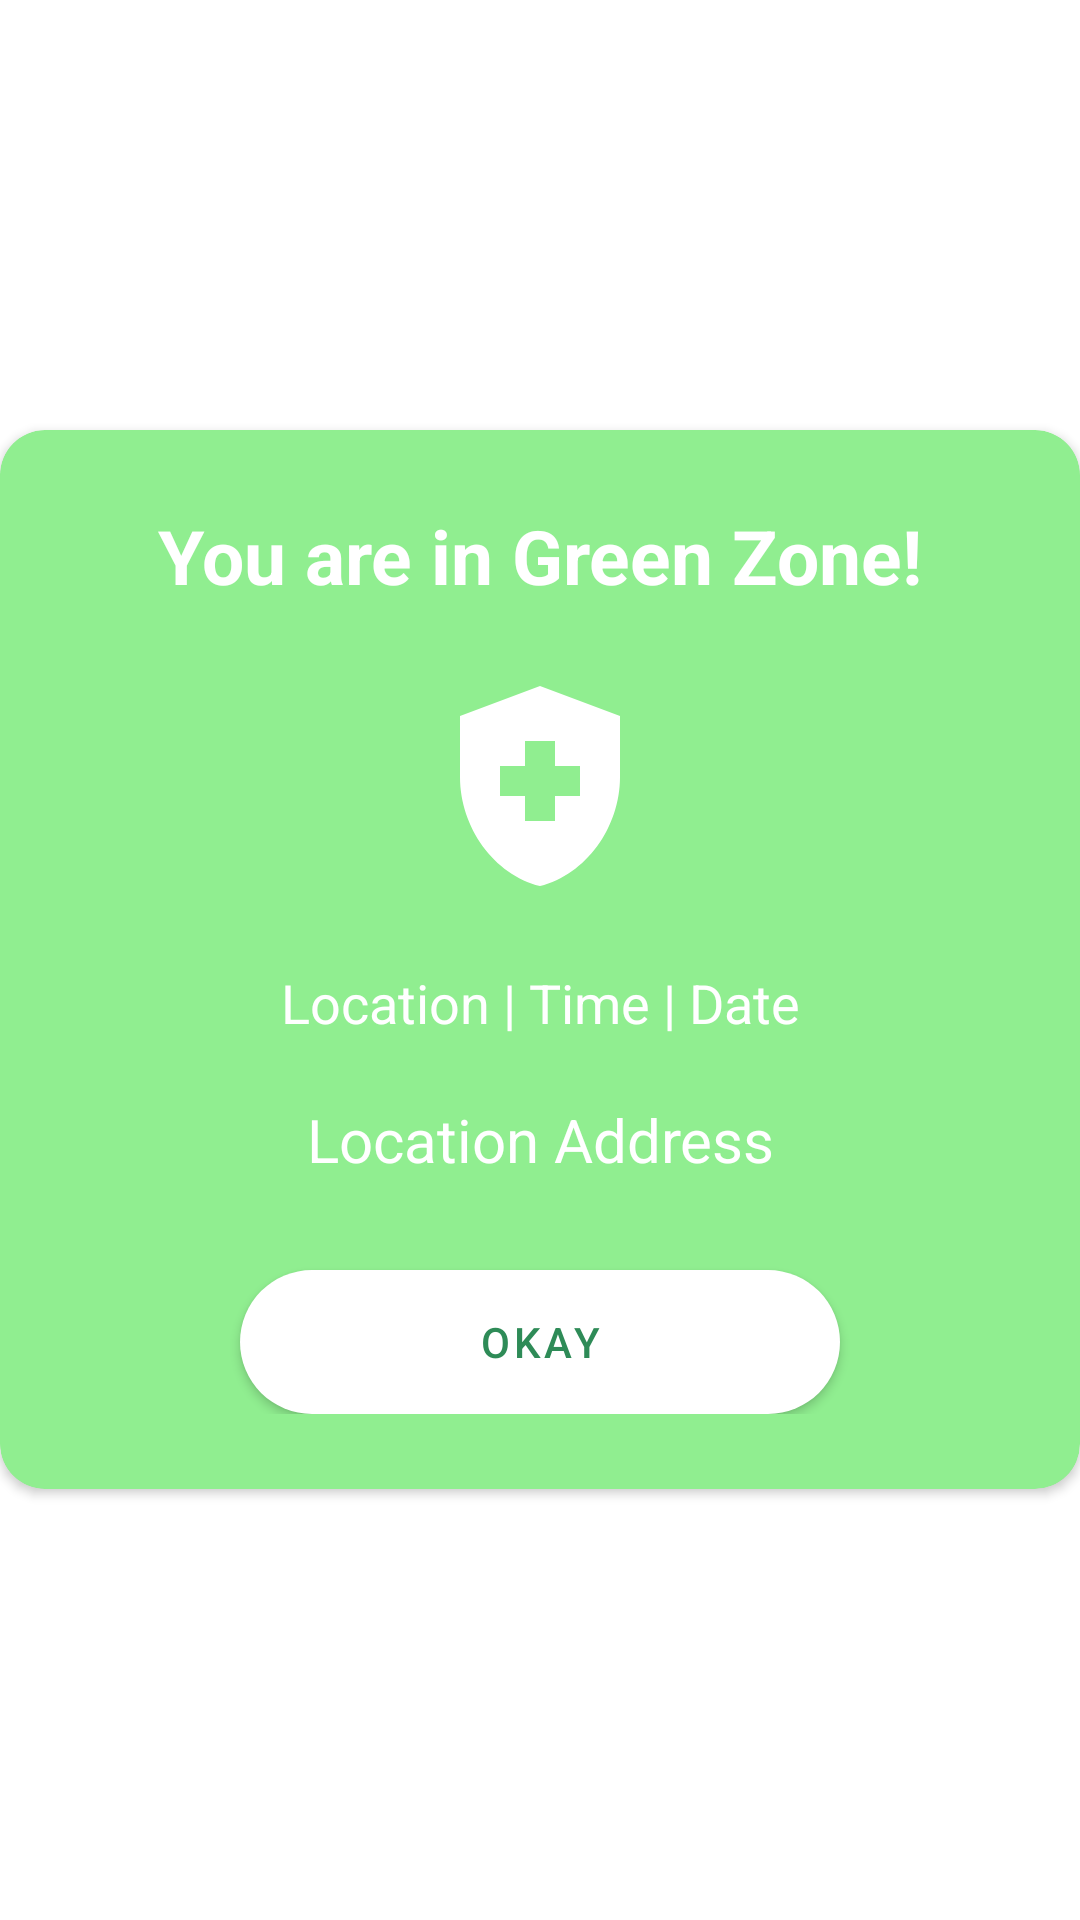

Where to tap for icons on this 1080×1920 app screen, as point (x, y):
health and safety: point (540, 786)
